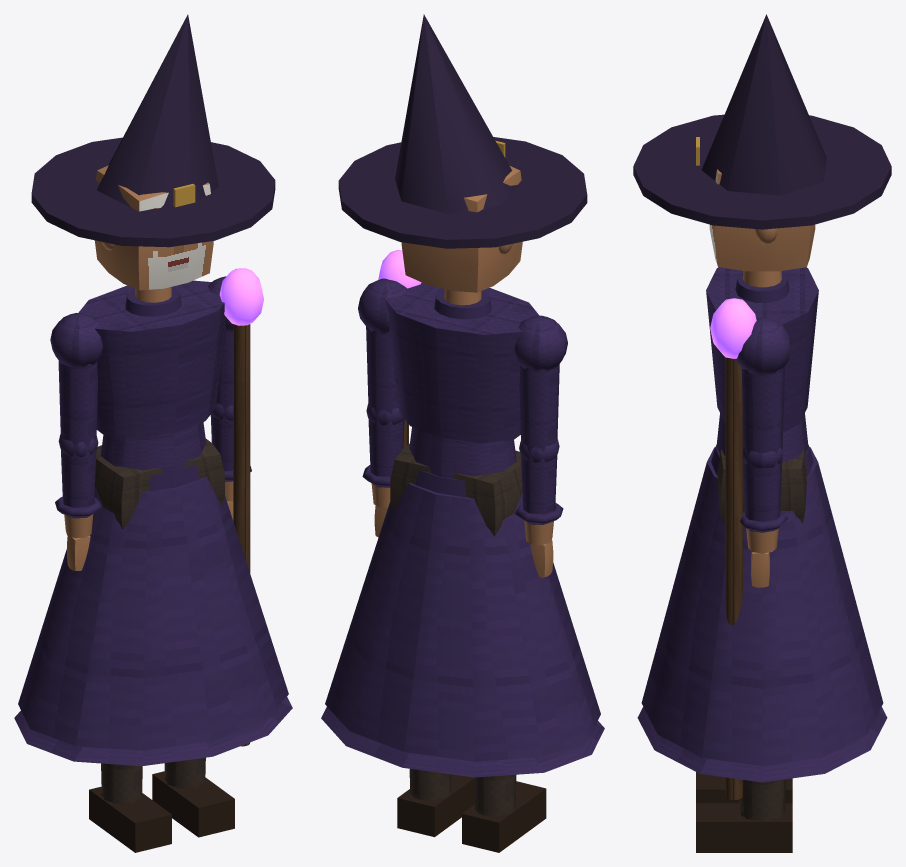
File: brujo.glb
3 renders of one model, left to right at view 1: azimuth 30°, elevation 25°; view 2: azimuth 150°, elevation 25°; view 3: azimuth 270°, elevation 25°, orthographic. The views are drawn at different scales.
Parts seen in each view (by area): view 1: brujo, object 32, object 33, object 29, object 26, object 5, object 10, object 13, object 12, object 27, object 15, object 3 (+5 smaller); view 2: brujo, object 32, object 33, object 29, object 5, object 13, object 10, object 12, object 20, object 15, object 22, object 19 (+5 smaller); view 3: brujo, object 32, object 33, object 26, object 10, object 29, object 20, object 19, object 22, object 27, object 8, object 5 (+5 smaller).
Boxes of the visible parts, x1=… form: brujo: x1=14, y1=280, x2=292, y2=766; object 32: x1=31, y1=137, x2=275, y2=247; object 33: x1=97, y1=14, x2=218, y2=207; object 29: x1=94, y1=165, x2=213, y2=290; object 26: x1=233, y1=324, x2=250, y2=746; object 5: x1=89, y1=786, x2=171, y2=852; object 10: x1=152, y1=771, x2=234, y2=837; object 13: x1=58, y1=361, x2=98, y2=448; object 12: x1=50, y1=313, x2=102, y2=367; object 27: x1=219, y1=268, x2=263, y2=325; object 15: x1=61, y1=447, x2=96, y2=518; object 3: x1=101, y1=763, x2=142, y2=804; brujo: x1=321, y1=282, x2=604, y2=777; object 32: x1=338, y1=137, x2=587, y2=248; object 33: x1=395, y1=14, x2=517, y2=214; object 29: x1=401, y1=166, x2=522, y2=292; object 5: x1=462, y1=781, x2=546, y2=852; object 13: x1=519, y1=364, x2=559, y2=453; object 10: x1=397, y1=774, x2=474, y2=837; object 12: x1=514, y1=315, x2=567, y2=371; object 20: x1=366, y1=326, x2=398, y2=416; object 15: x1=521, y1=452, x2=557, y2=524; object 22: x1=368, y1=415, x2=404, y2=487; object 19: x1=358, y1=278, x2=407, y2=334; brujo: x1=637, y1=267, x2=887, y2=782; object 32: x1=633, y1=114, x2=891, y2=229; object 33: x1=701, y1=14, x2=826, y2=195; object 26: x1=725, y1=357, x2=742, y2=799; object 10: x1=696, y1=803, x2=792, y2=852; object 29: x1=709, y1=169, x2=815, y2=271; object 20: x1=741, y1=366, x2=784, y2=454; object 19: x1=736, y1=317, x2=790, y2=374; object 22: x1=743, y1=453, x2=782, y2=532; object 27: x1=710, y1=298, x2=756, y2=358; object 8: x1=739, y1=779, x2=785, y2=821; object 5: x1=696, y1=772, x2=792, y2=803.
Bounding box in the file's own units: 0.7616 × 2.28 × 0.6413.
Materials: 13 (5 with a texture image).
